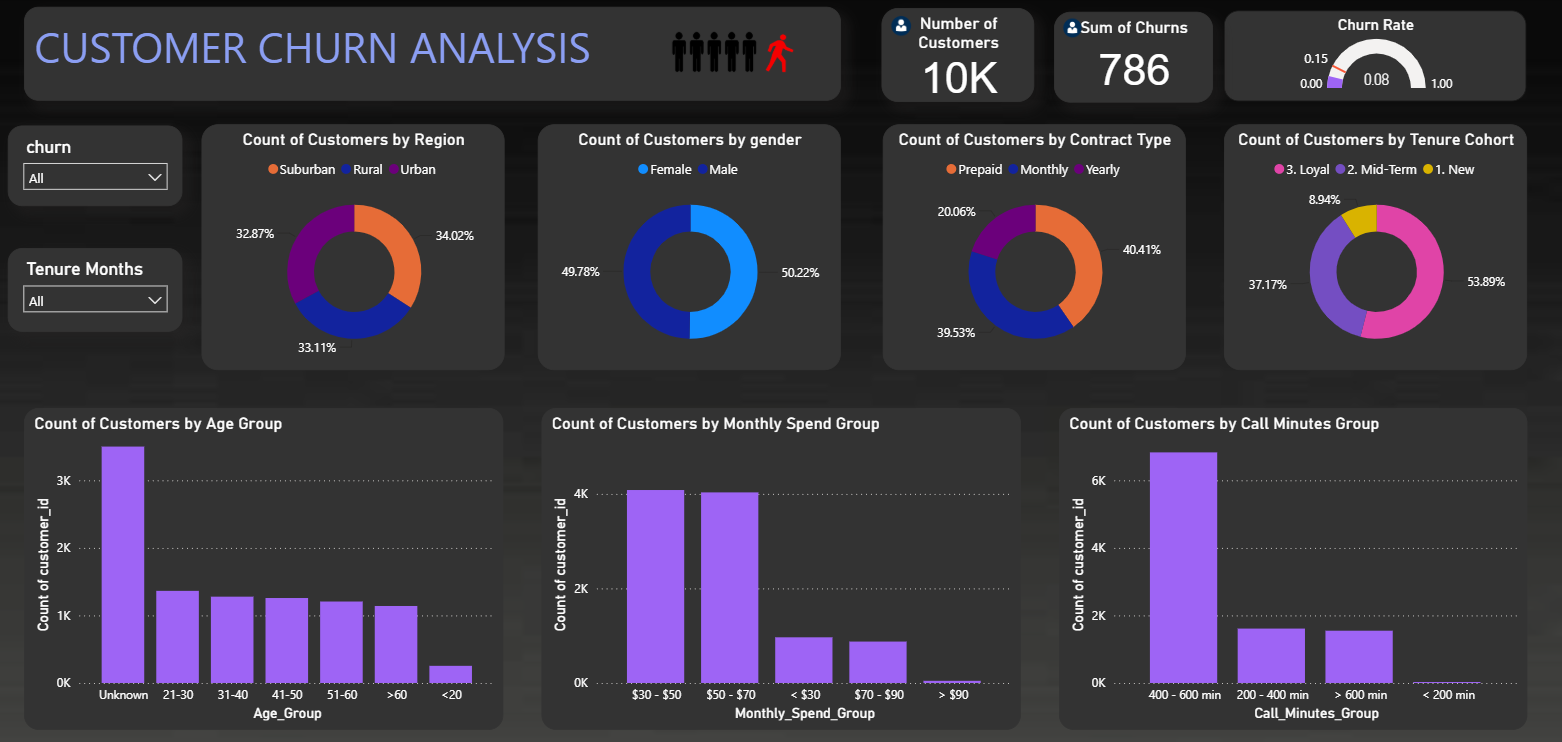

Layout of this report page (visuals, bound fields, positions):
{"tool":"powerbi","page":{"name":"Churn Report","canvas":[1600,762],"ordinal":0},"visuals":[{"type":"card","title":"Number of Customers","fields":{"Values":["CountNonNull(customer_features.customer_id)"]},"box":[902.1,10.5,156.1,96.1],"z":0},{"type":"donutChart","title":"Count of Customers by Tenure Cohort","fields":{"Category":["customer_features.Tenure_Cohort"],"Y":["CountNonNull(customer_features.customer_id)"]},"box":[1251.5,129.4,309.6,251.5],"z":1000},{"type":"donutChart","title":"Count of Customers by Contract Type","fields":{"Category":["customer_features.contract_type"],"Y":["CountNonNull(customer_features.customer_id)"]},"box":[902.6,129.4,309.6,251.5],"z":2000},{"type":"donutChart","title":"Count of Customers by Region","fields":{"Category":["customer_features.region"],"Y":["CountNonNull(customer_features.customer_id)"]},"box":[206.4,129.4,309.6,251.5],"z":3000},{"type":"donutChart","title":"Count of Customers by gender","fields":{"Category":["customer_features.gender"],"Y":["CountNonNull(customer_features.customer_id)"]},"box":[550.9,129.4,309.6,251.5],"z":4000},{"type":"lineClusteredColumnComboChart","title":"Count of Customers by Age Group","fields":{"Category":["customer_features.Age_Group"],"Y":["CountNonNull(customer_features.customer_id)"]},"box":[26.2,418.6,489.8,328.5],"z":5000},{"type":"lineClusteredColumnComboChart","title":"Count of Customers by Monthly Spend Group","fields":{"Category":["customer_features.Monthly_Spend_Group"],"Y":["CountNonNull(customer_features.customer_id)"]},"box":[553.8,418.6,489.8,328.5],"z":6000},{"type":"lineClusteredColumnComboChart","title":"Count of Customers by Call Minutes Group","fields":{"Category":["customer_features.Call_Minutes_Group"],"Y":["CountNonNull(customer_features.customer_id)"]},"box":[1082.9,418.6,478.2,328.5],"z":7000},{"type":"slicer","fields":{"Values":["customer_features.churn"]},"box":[9,130.6,178.6,82.6],"z":8000},{"type":"gauge","title":" Churn Rate","fields":{"MaxValue":["customer_features.Churn_Gauge_Max"],"TargetValue":["customer_features.Churn_Gauge_Target"],"Y":["customer_features.Churn Rate"]},"box":[1251.5,13.1,309,93],"z":9000},{"type":"slicer","fields":{"Values":["customer_features.tenure_months"]},"box":[9,255.2,178.6,85.6],"z":10000},{"type":"textbox","box":[25.5,9,834.5,96.1],"z":11000},{"type":"image","box":[666.4,21,166.8,73.1],"z":16000},{"type":"card","title":"Sum of Churns","fields":{"Values":["Sum(customer_features.churn)"]},"box":[1082.2,13.5,156.1,96.1],"z":16001}]}

Visuals, with their boxes in screenshot pixels (x1, y1, x2, y2), scaled from the page's 1600x762 canvas onto the 1562x742 screenshot:
"Number of Customers" card: bbox(881, 10, 1033, 104)
"Count of Customers by Tenure Cohort" donutChart: bbox(1222, 126, 1524, 371)
"Count of Customers by Contract Type" donutChart: bbox(881, 126, 1183, 371)
"Count of Customers by Region" donutChart: bbox(201, 126, 504, 371)
"Count of Customers by gender" donutChart: bbox(538, 126, 840, 371)
"Count of Customers by Age Group" lineClusteredColumnComboChart: bbox(26, 408, 504, 727)
"Count of Customers by Monthly Spend Group" lineClusteredColumnComboChart: bbox(541, 408, 1019, 727)
"Count of Customers by Call Minutes Group" lineClusteredColumnComboChart: bbox(1057, 408, 1524, 727)
slicer - customer_features.churn: bbox(9, 127, 183, 208)
" Churn Rate" gauge: bbox(1222, 13, 1523, 103)
slicer - customer_features.tenure_months: bbox(9, 249, 183, 332)
textbox: bbox(25, 9, 840, 102)
image: bbox(651, 20, 813, 92)
"Sum of Churns" card: bbox(1056, 13, 1209, 107)
